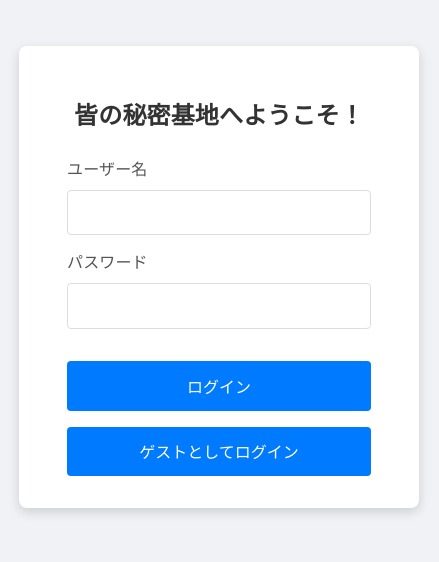
Scenario: Login Component › Failure Cases › should display error message for empty username field
Fill in only password, leave username empty
Type "password123" into the password field labelled "パスワード" at coordinates (219, 306), box [67,283,371,329]
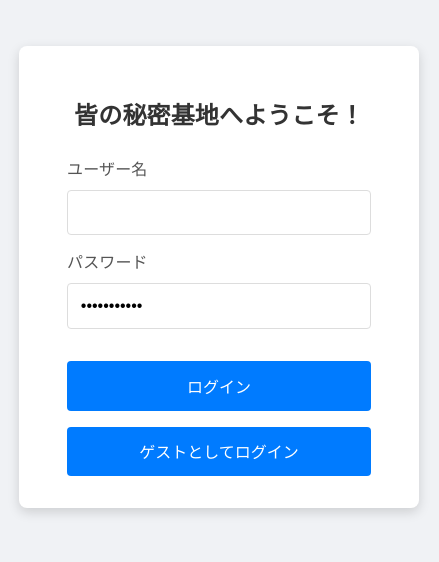
Click login button
Click the button "ログイン" at coordinates (219, 386), box [67,361,371,411]
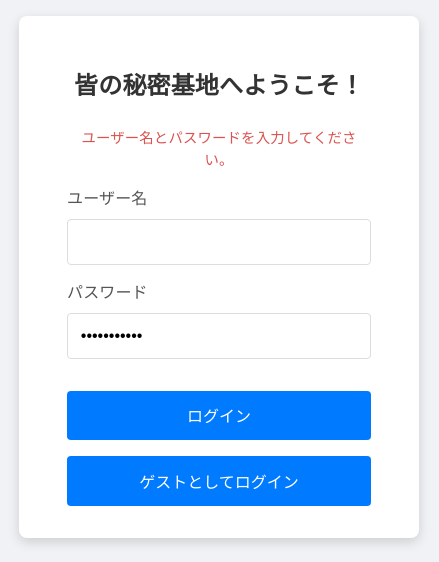
Result: the text "ユーザー名とパスワードを入力してください。" is shown at [67,128,371,171]
